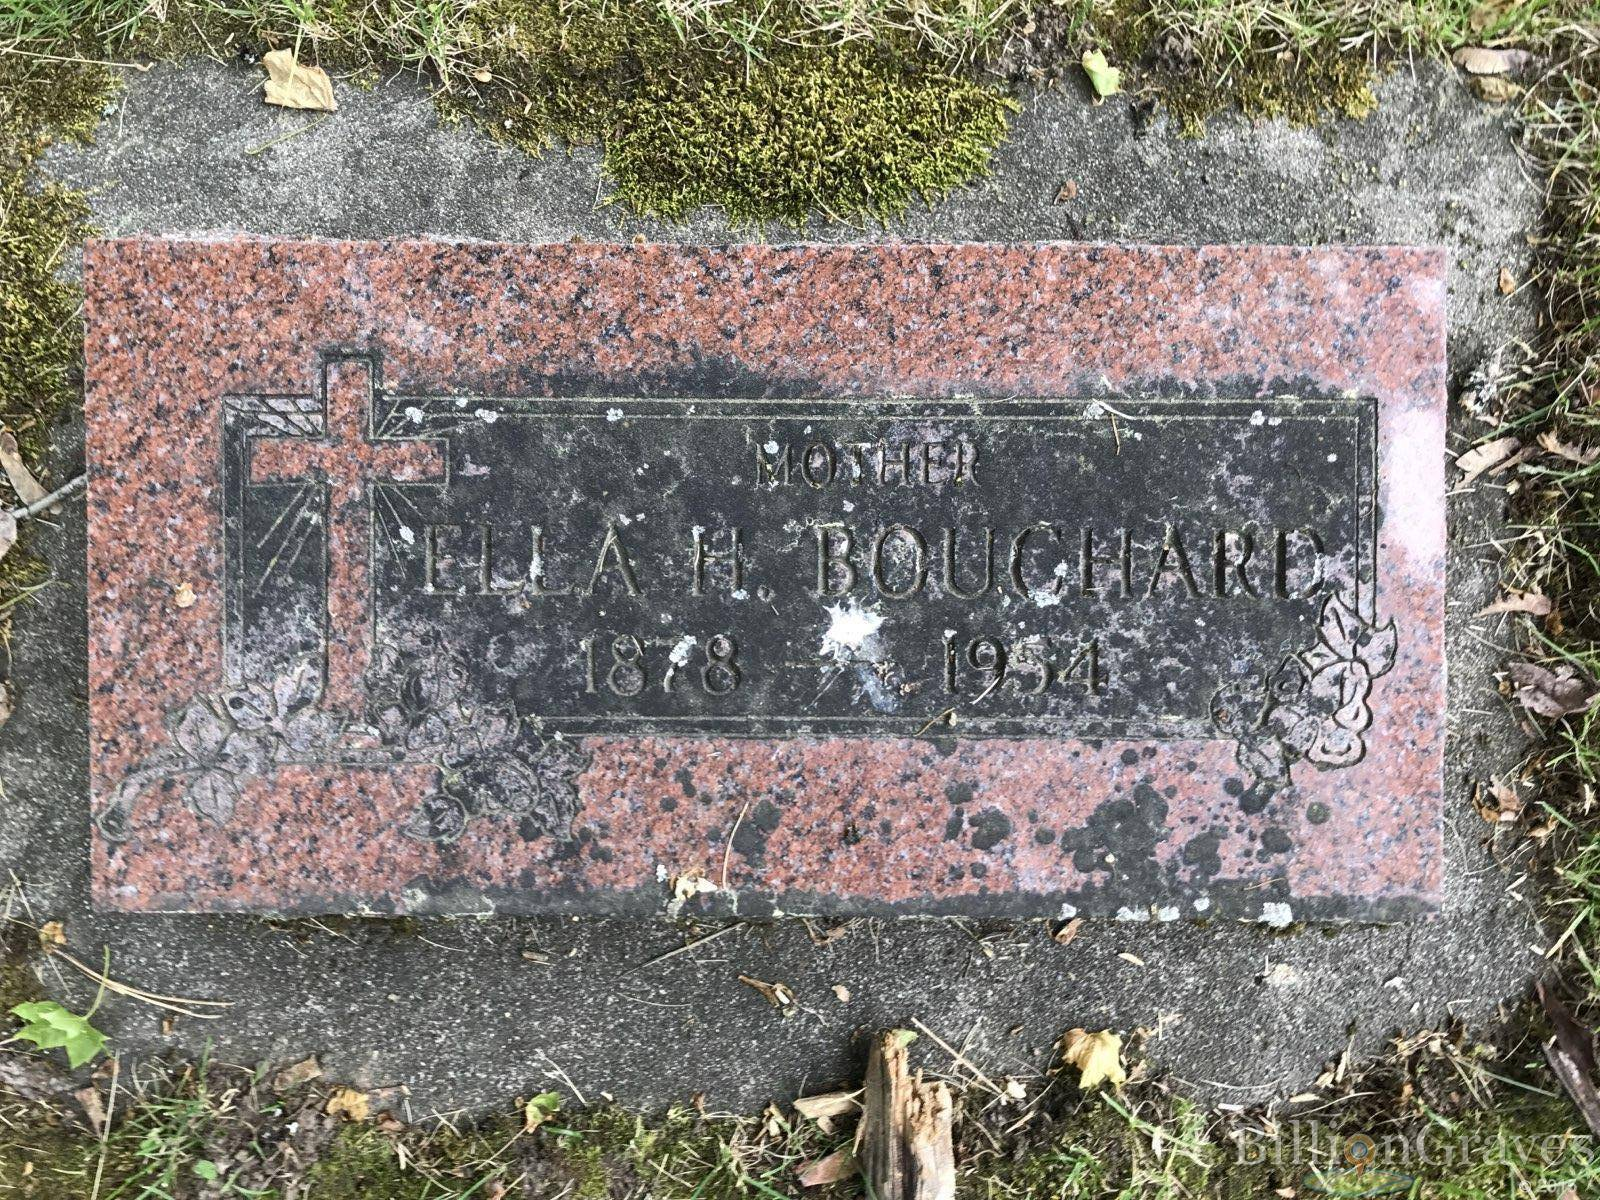flat: (53, 200, 1500, 988)
